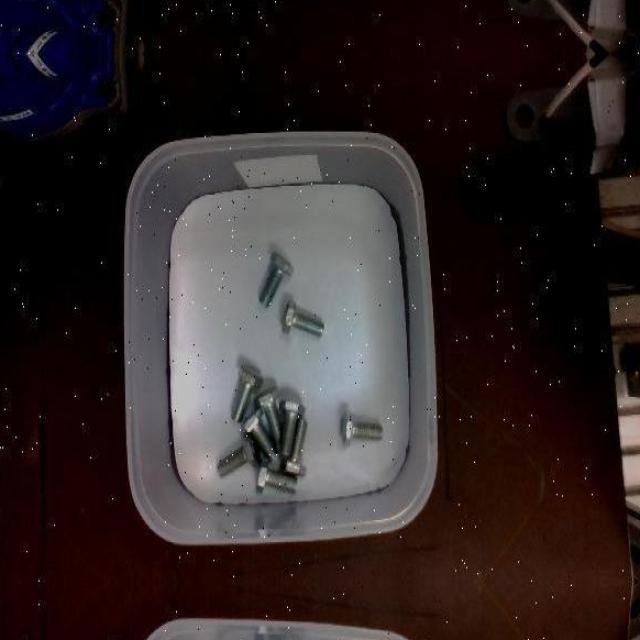screw: (216, 431, 262, 477), (260, 250, 294, 306), (232, 363, 264, 422), (280, 416, 308, 476), (282, 299, 324, 337), (256, 455, 298, 493), (279, 399, 306, 456), (342, 409, 383, 446)
